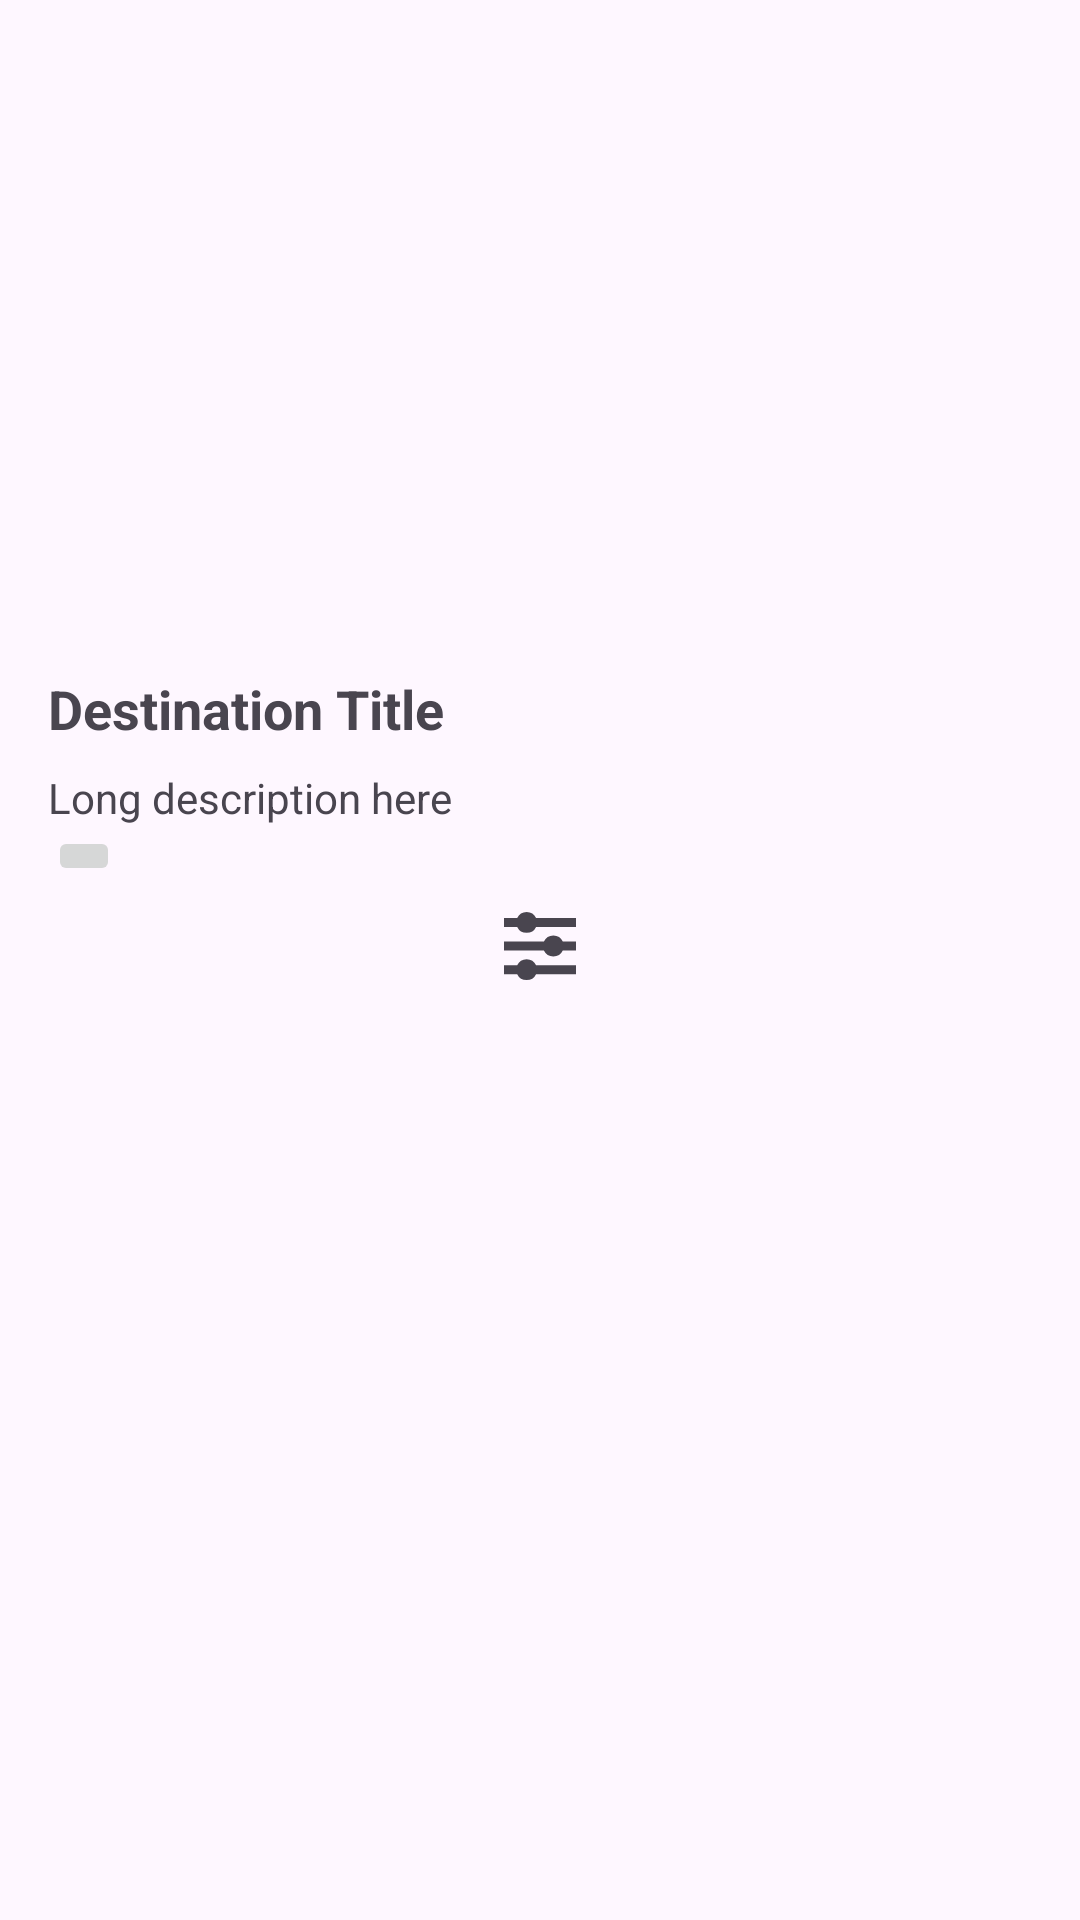

Icons on this 1080px x 1920px Android screen, each with the point to tap as [x,y]:
Settings: [540,946]
